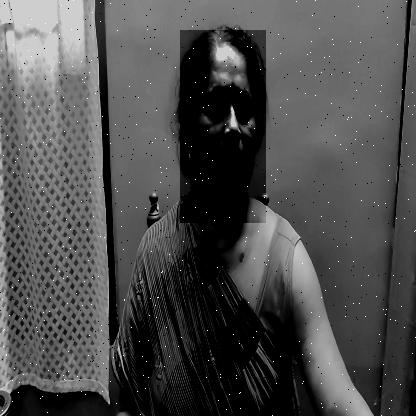Normal: (180, 30, 266, 223)
